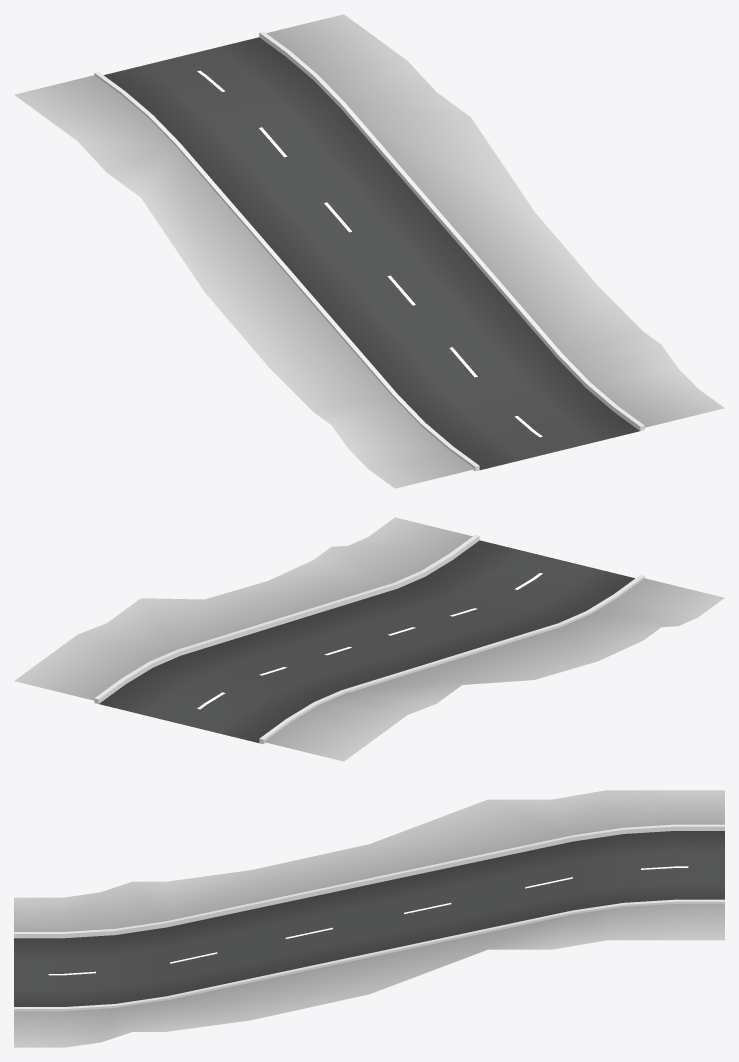
The model's file is road_018.glb.
3 renders of one model, top to bottom at view 1: azimuth 30°, elevation 25°; view 2: azimuth 150°, elevation 25°; view 3: azimuth 270°, elevation 25°, orthographic. The views are drawn at different scales.
Parts seen in each view (by area): view 1: road_018; view 2: road_018; view 3: road_018.
Boxes of the visible parts, box(x1,y1,x2,y2) form: road_018: box(14, 14, 724, 488); road_018: box(14, 517, 724, 761); road_018: box(14, 790, 724, 1047).
Bounding box in the file's own units: 15 × 5.2 × 30.
1 material, 1 textured.
